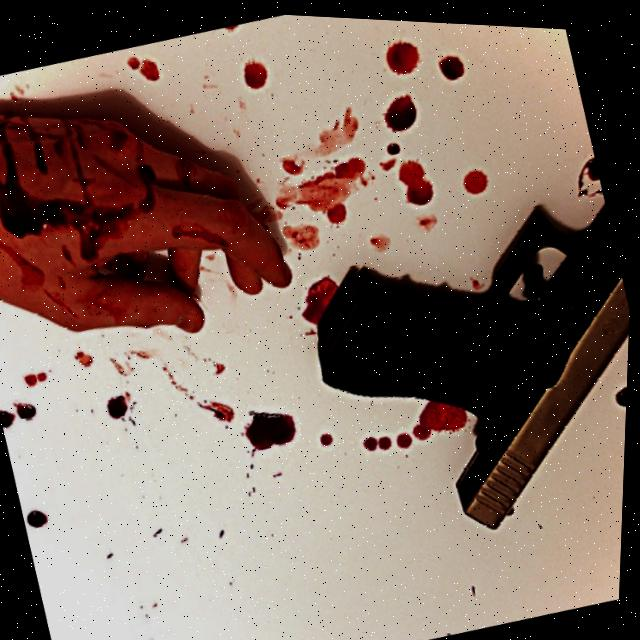pistol: (286, 170, 635, 563)
